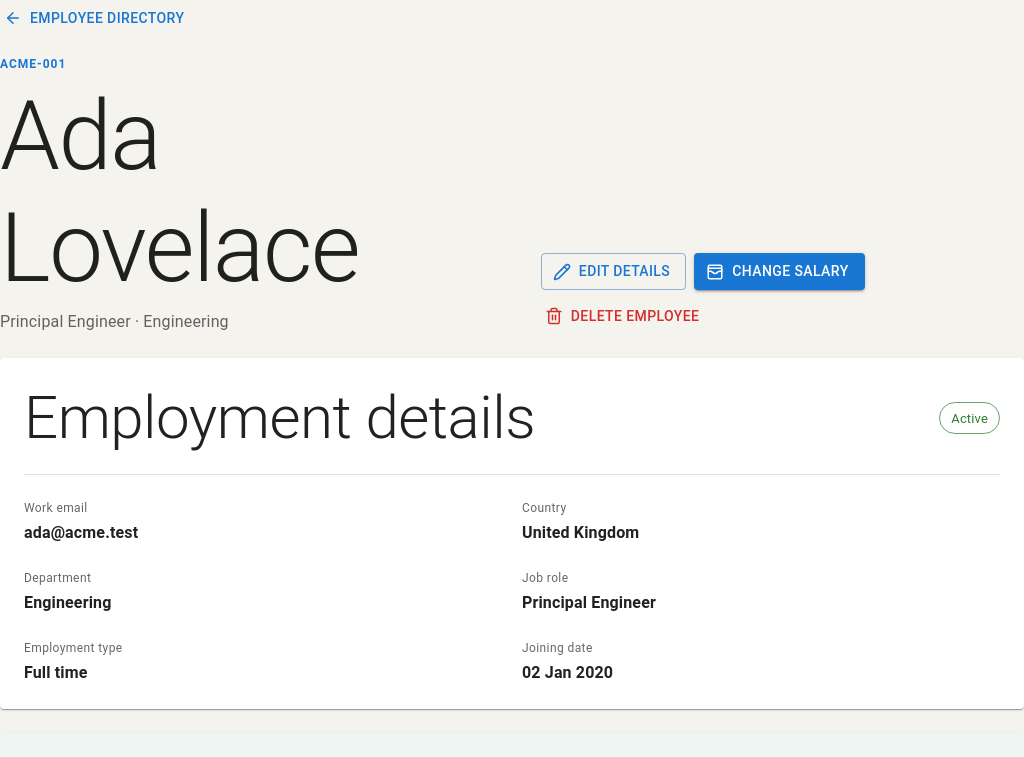
Scenario: EmployeeDetails › reloads after an archive conflict without retrying and requires a new confirmation
expect the heading "Ada Lovelace" is shown: met, box [0,80,359,304]
Click the button "Delete employee".
click(624, 316)  # box [541,298,707,334]
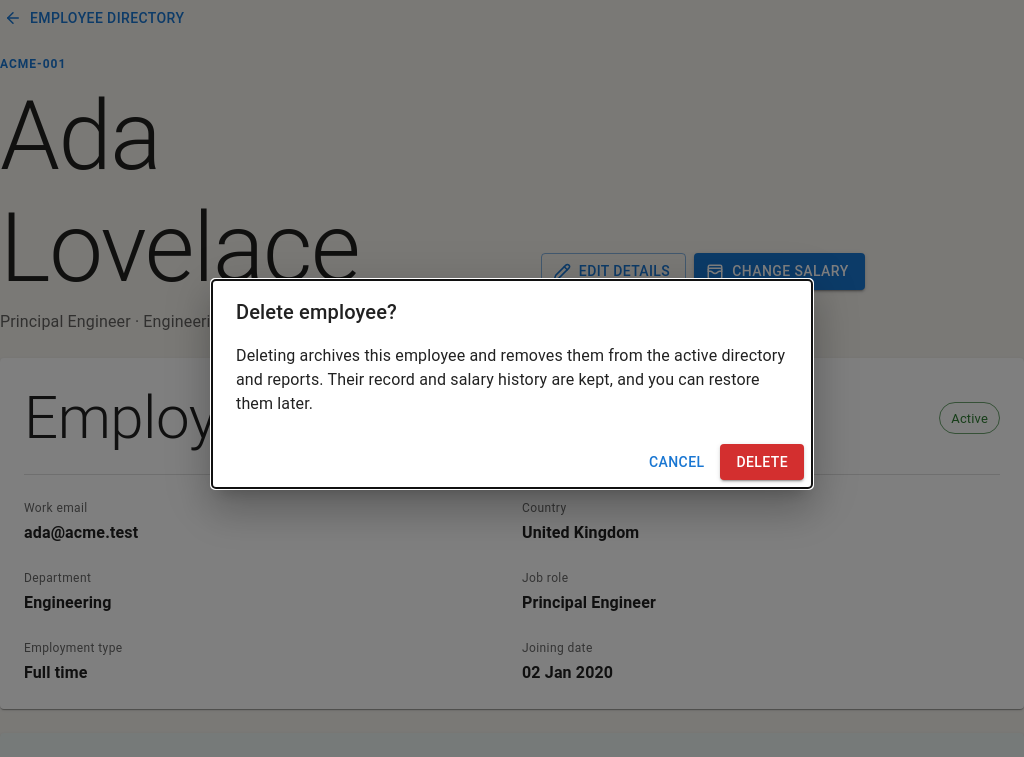
Click the button "Delete".
click(762, 462)  # box [720,444,804,480]
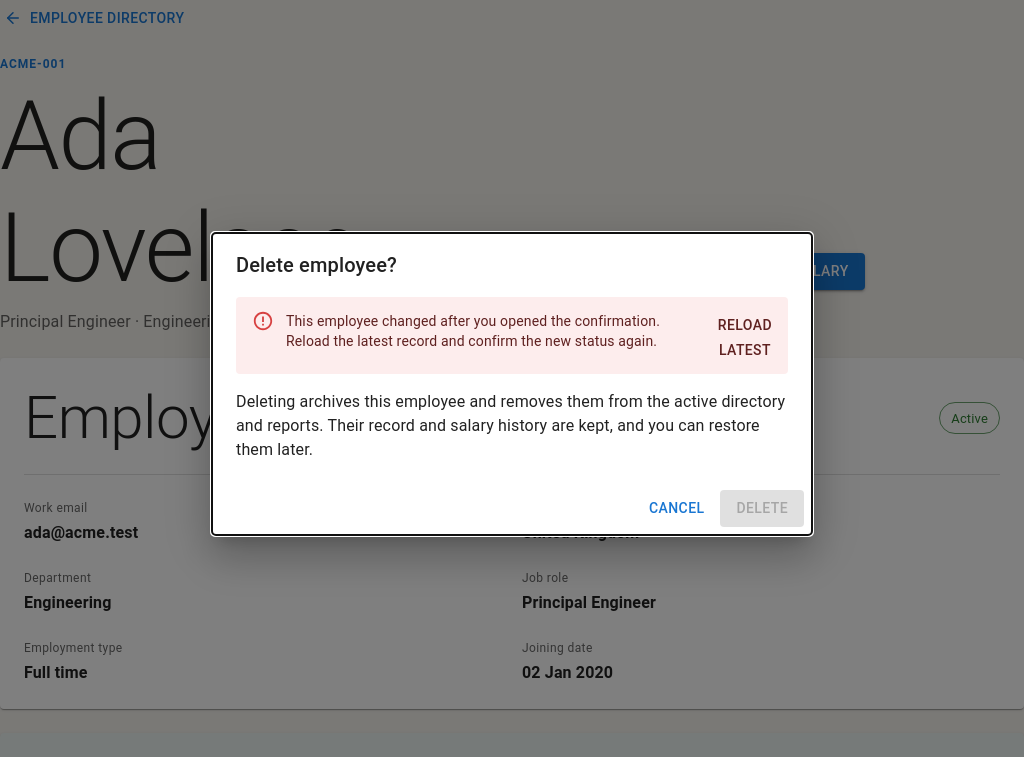
Click the button "Reload latest".
click(745, 338)  # box [710,307,780,368]
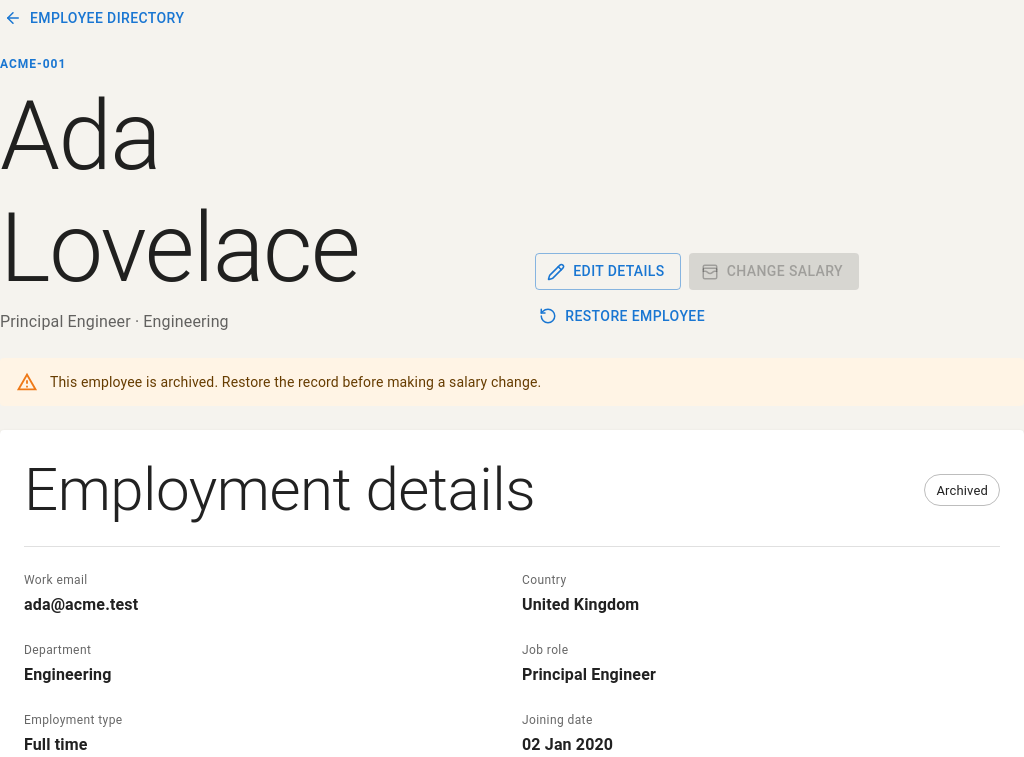
expect the button "Restore employee" is shown: met
expect the dialog is gone: met
Click the button "Restore employee".
click(624, 316)  # box [535,298,713,334]
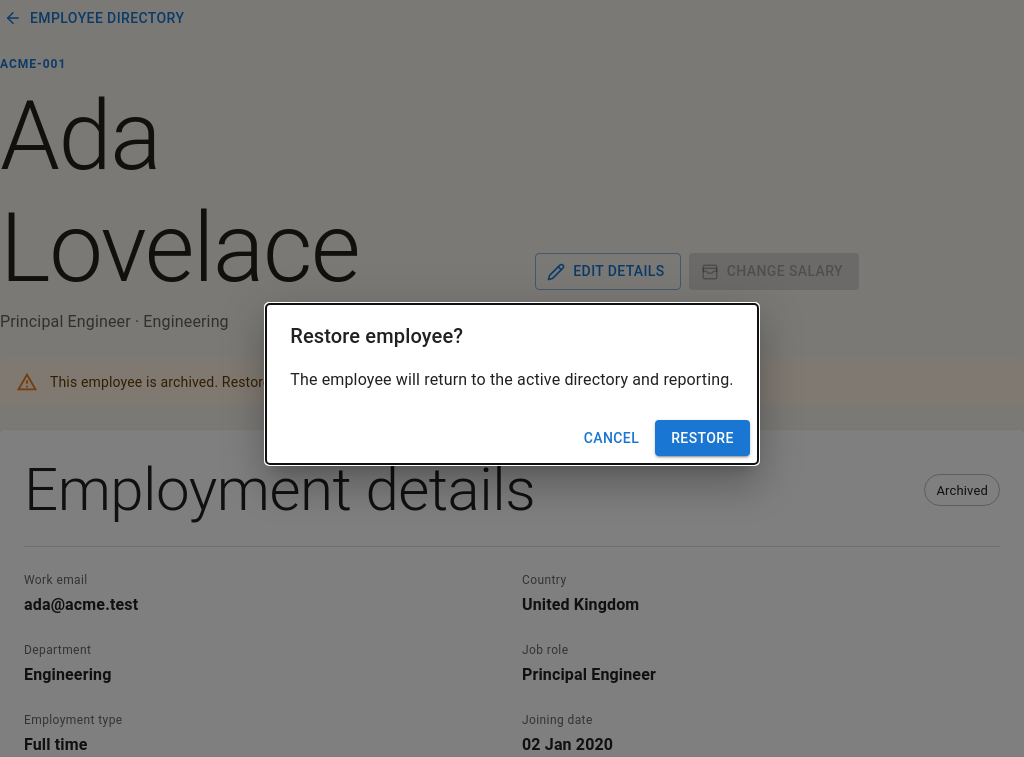
expect the heading "Restore employee?" is shown: met, box [290,324,463,348]
